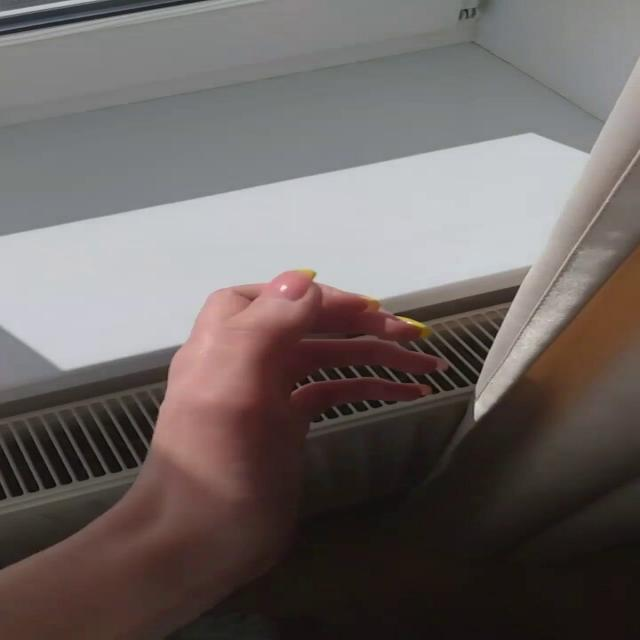Nail: (263, 269, 317, 301)
